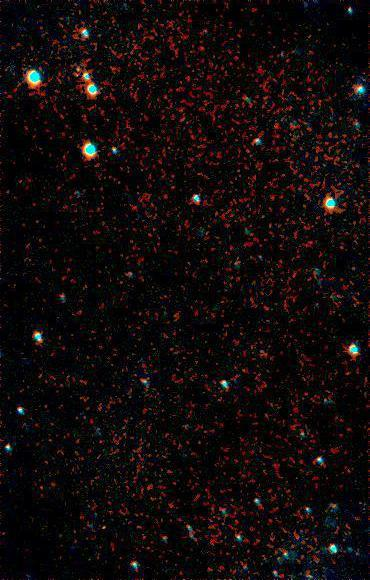star: (63, 53, 93, 83)
